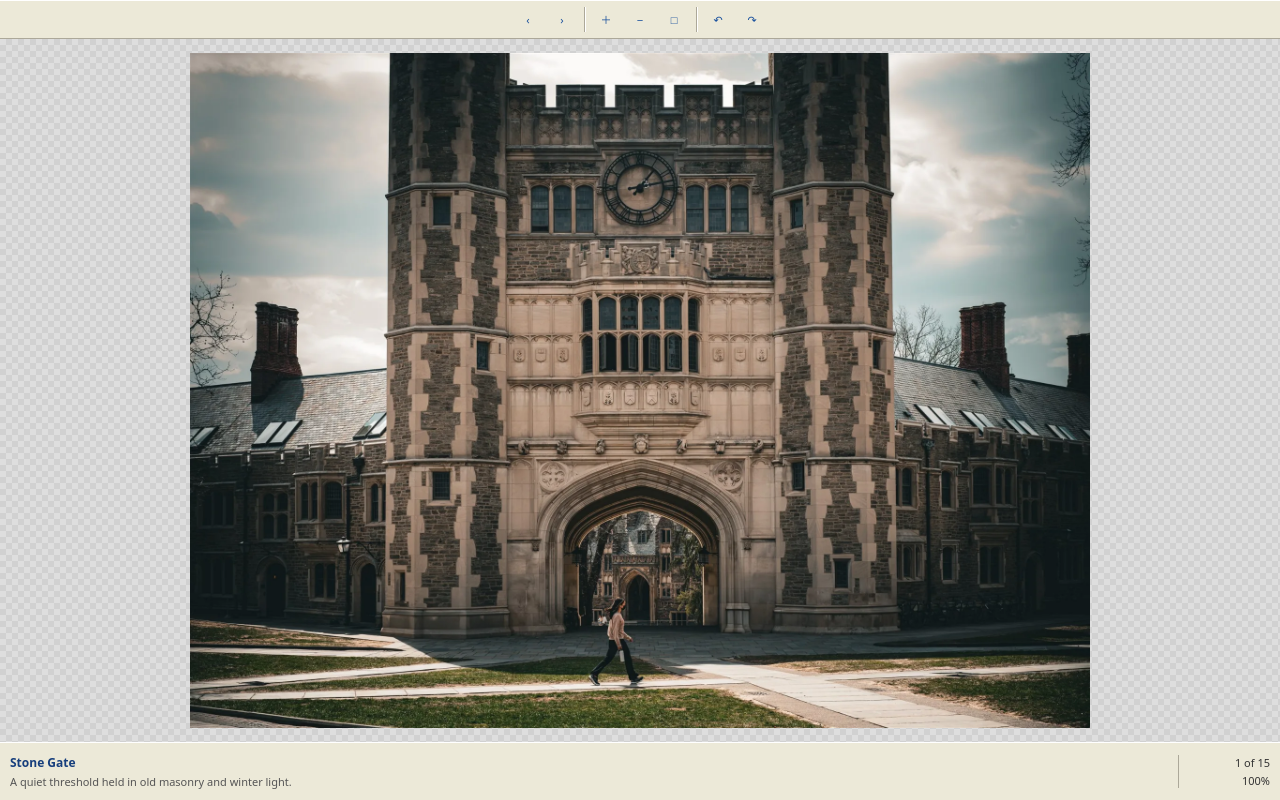
PictureViewer › zooms out from fitted 100% to 75%
What coordinates should you click on to do the following:
click the button named "Zoom out"
I would click on:
 (640, 19)
Its box is [624, 4, 656, 34].
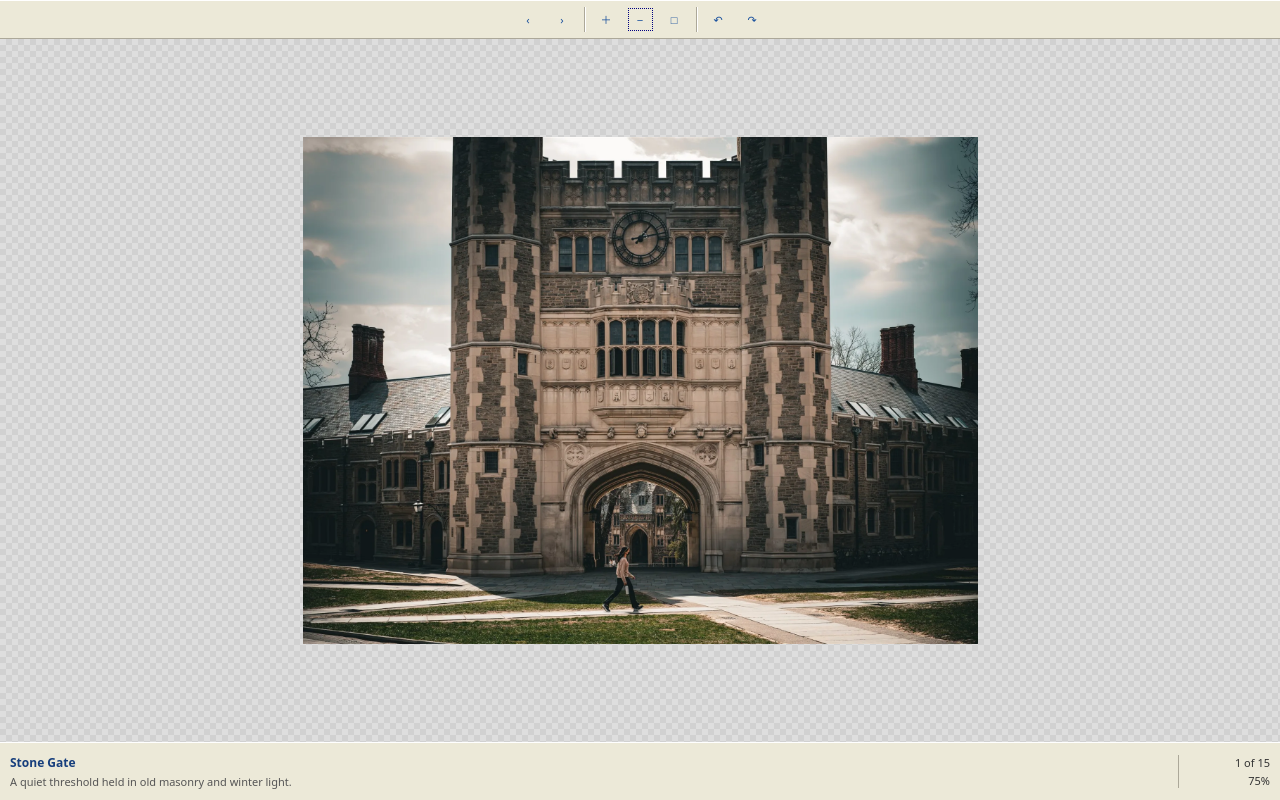
Expected: the text "75%" is shown, [1248, 773, 1270, 788]
